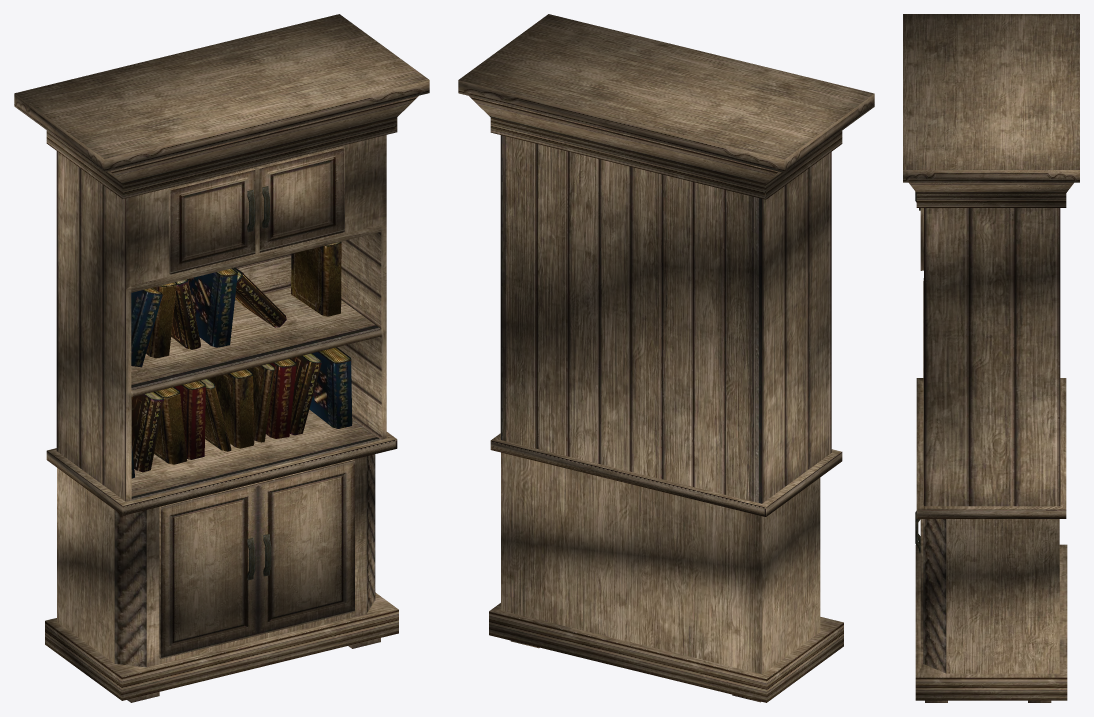
The model's file is GS_VOB_BOOKCASE_YELLOW_01_KOZA.glb.
3 renders of one model, left to right at view 1: azimuth 30°, elevation 25°; view 2: azimuth 150°, elevation 25°; view 3: azimuth 270°, elevation 25°, orthographic. The views are drawn at different scales.
Parts seen in each view (by area): view 1: Mesh; view 2: Mesh; view 3: Mesh.
Part boxes in pixels (left/top/right/bottom): Mesh: left=14, top=14, right=429, bottom=702; Mesh: left=458, top=14, right=874, bottom=702; Mesh: left=903, top=14, right=1079, bottom=702.
Bounding box in the file's own units: 1.41 × 2.33 × 0.6778.
Materials: 5 (5 with a texture image).
